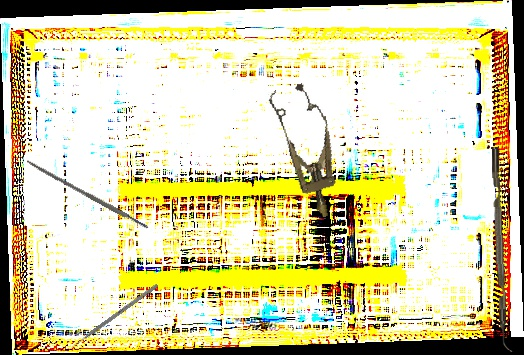Chopper: (491, 146, 516, 353)
Pusher: (65, 283, 159, 353)
Scalpel Handle: (25, 158, 150, 232)
Speculum: (265, 79, 351, 224)
